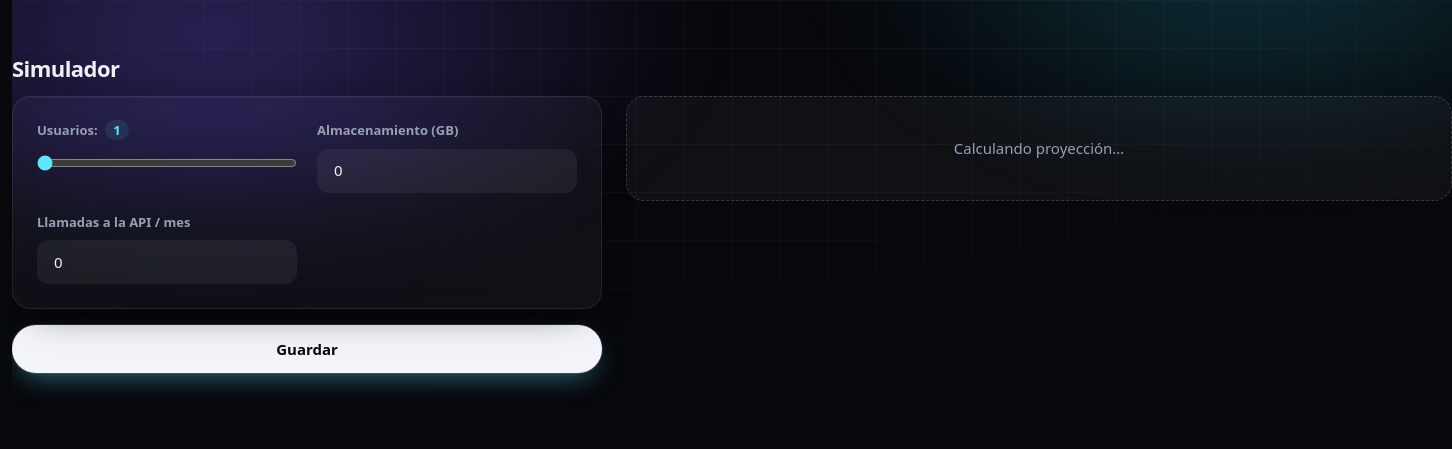
Scenario: Simulator: guardado › el botón está deshabilitado mientras la petición está en curso
Click the button "Guardar" at (307, 349), box [12,325,602,373]
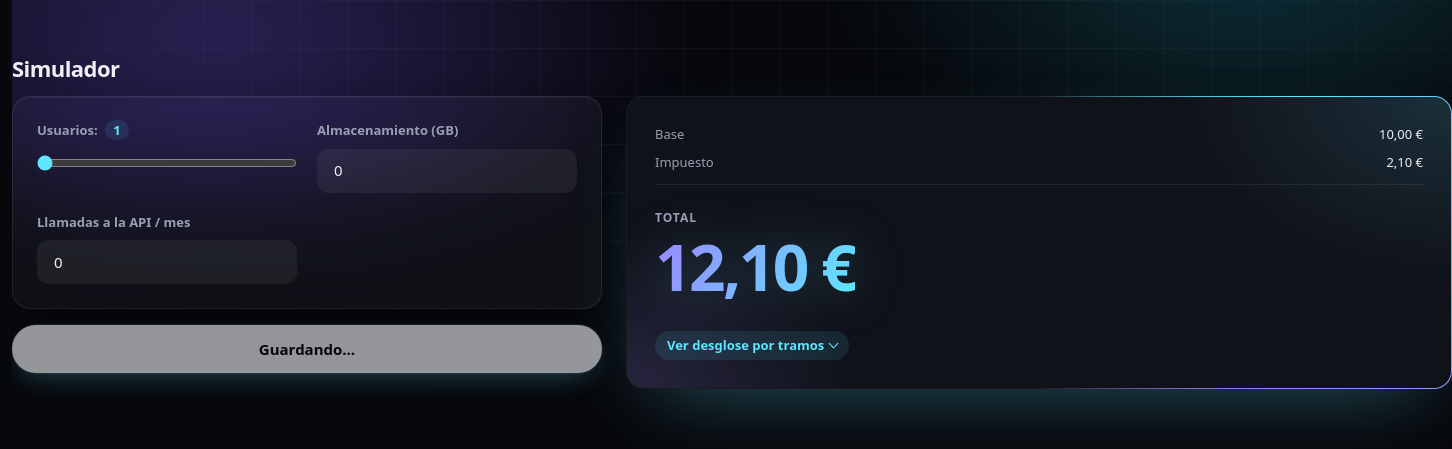
Expected: the button "Guardando…" is disabled
Expected: the button "Guardando…" is shown
Click the button "Guardando…" at (307, 349), box [12,325,602,373]
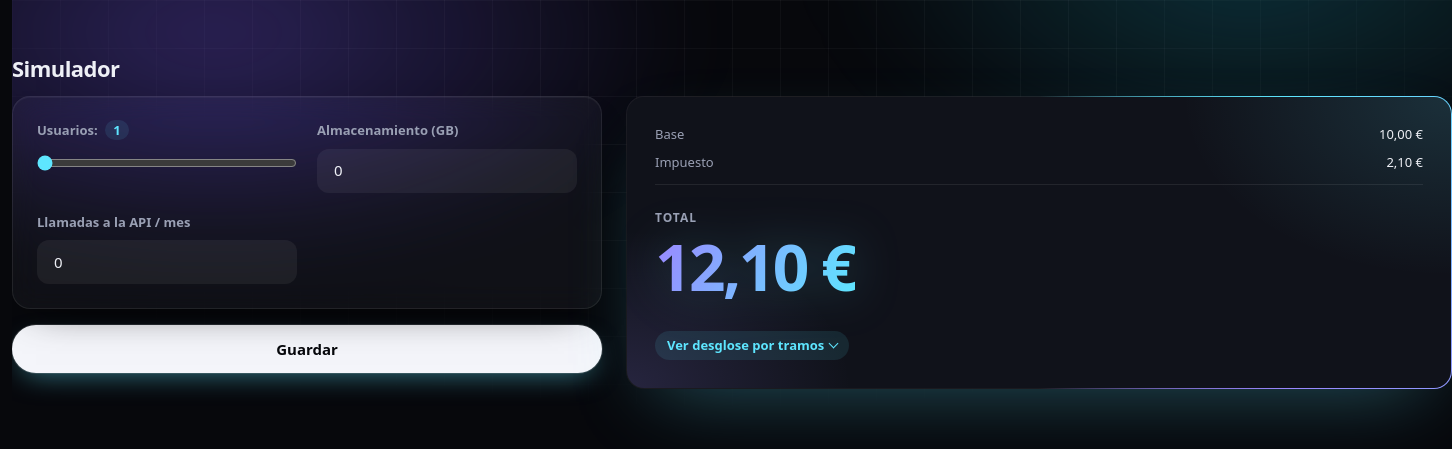
Expected: the button "Guardar" is enabled, [12,325,602,373]
Expected: the button "Guardar" is shown, [12,325,602,373]
